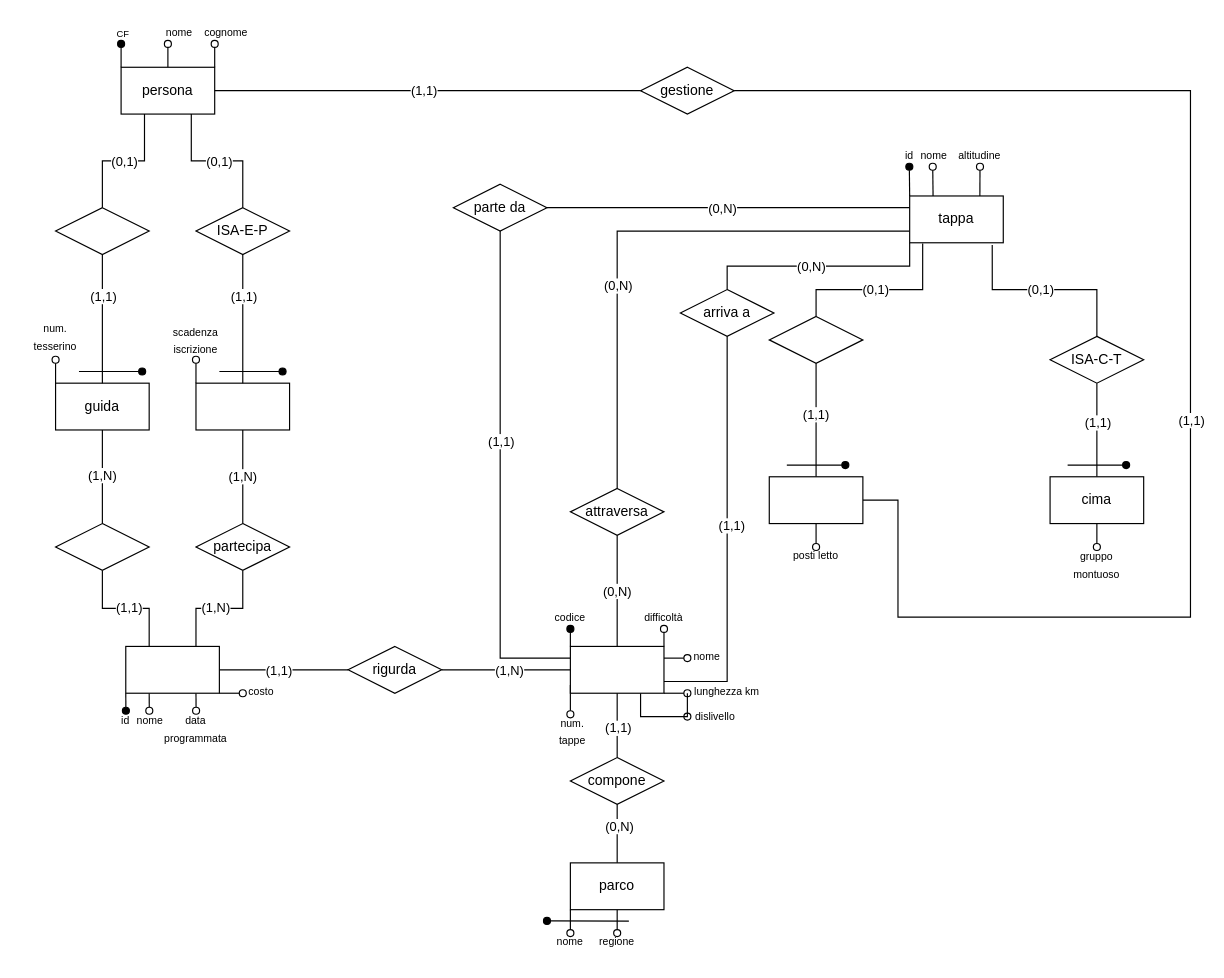
The diagram is 1224 pixels wide and 978 high, and some of its shapes have lost their labels. The shapes that lost their labels are listed below. From the top down, each one's box as (x1, y1, x2, y2) in pixels, then its label:
(54, 207, 149, 254): ISA-G-P
(768, 315, 863, 363): ISA-R-T
(195, 382, 290, 430): escursionista
(768, 476, 863, 524): rifugio
(54, 522, 149, 570): dirige
(125, 645, 219, 693): escursione
(569, 645, 664, 693): sentiero
